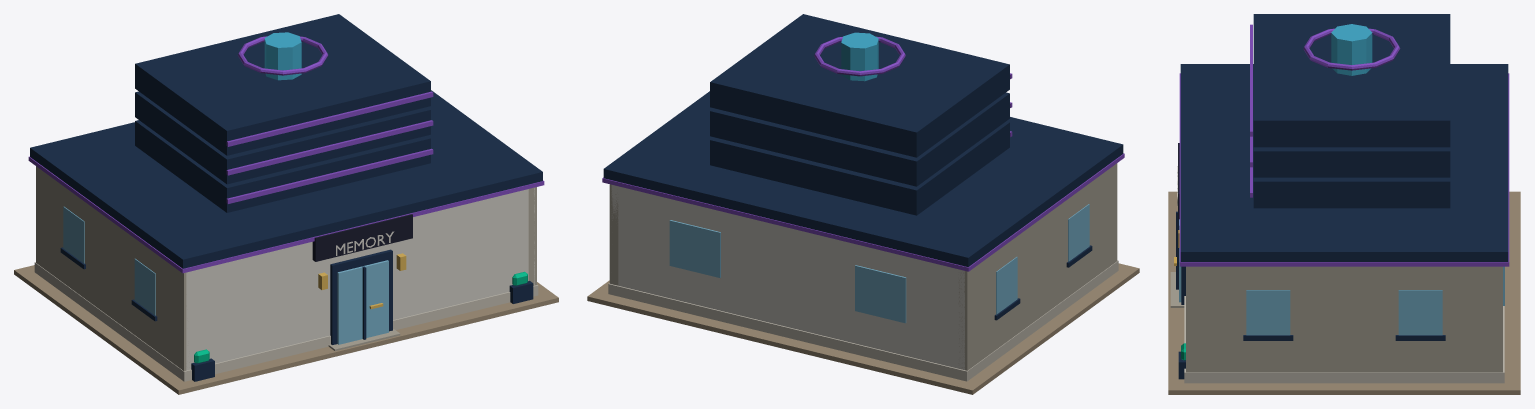
Rendered from memory-house-dKwFtEU5.glb.
3 views of the same model, side by side, from view 1: azimuth 30°, elevation 25°; view 2: azimuth 150°, elevation 25°; view 3: azimuth 270°, elevation 25° (orthographic). The views are drawn at different scales.
Parts seen in each view (by area): view 1: Architecture, core_orb, halo; view 2: Architecture, core_orb, halo; view 3: Architecture, core_orb, halo.
Boxes of the visible parts, x1,y1,x2,y2 form: Architecture: (14,14,558,394); core_orb: (264,32,301,80); halo: (238,36,327,75); Architecture: (587,14,1139,394); core_orb: (841,32,878,81); halo: (814,36,905,76); Architecture: (1168,14,1520,394); core_orb: (1331,24,1372,75); halo: (1303,28,1400,70).
Bounding box in the file's own units: 16 × 9.88 × 12.
